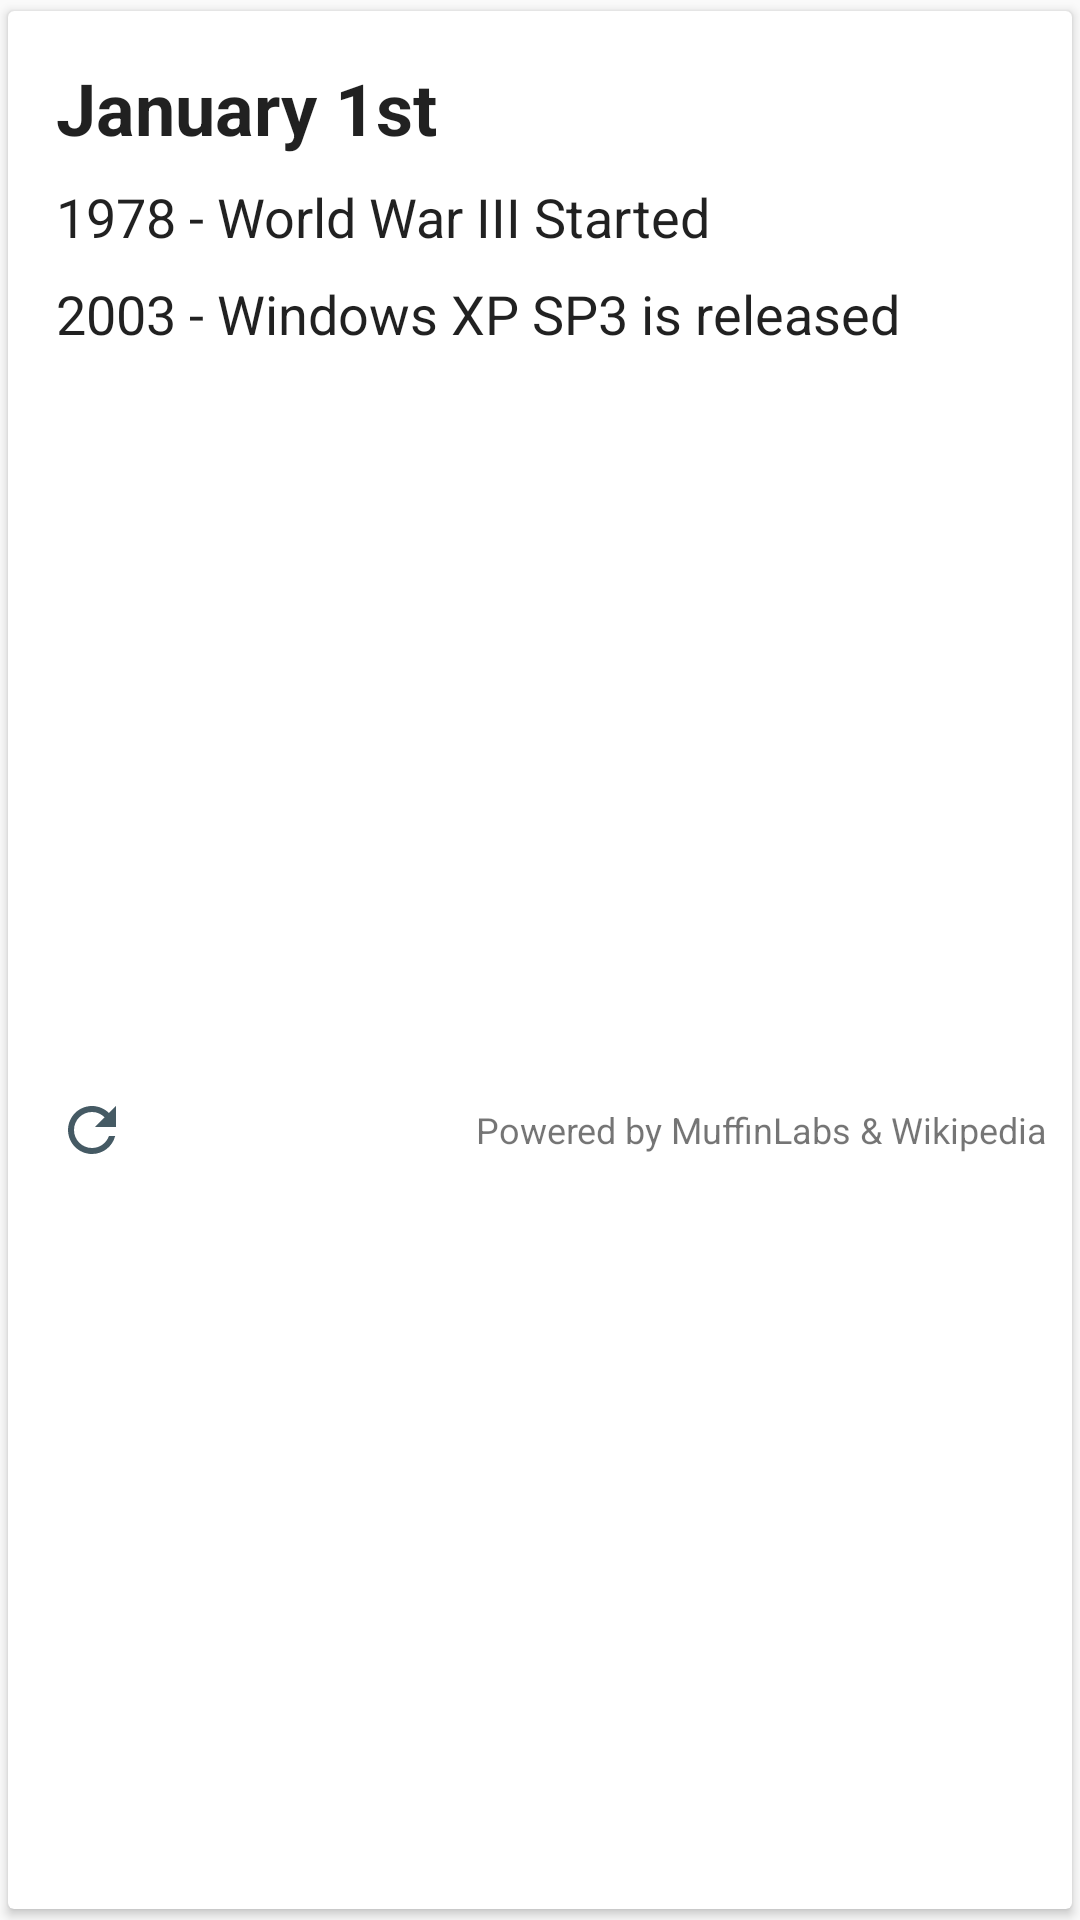

Where to tap for icons on this 1080*1920 app screen, as point (x, y):
refresh: point (92, 1130)
